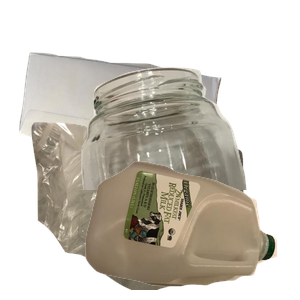glass: (74, 65, 300, 245)
paper: (17, 50, 231, 230)
plastic: (83, 159, 300, 300)
trash: (29, 120, 265, 300)
